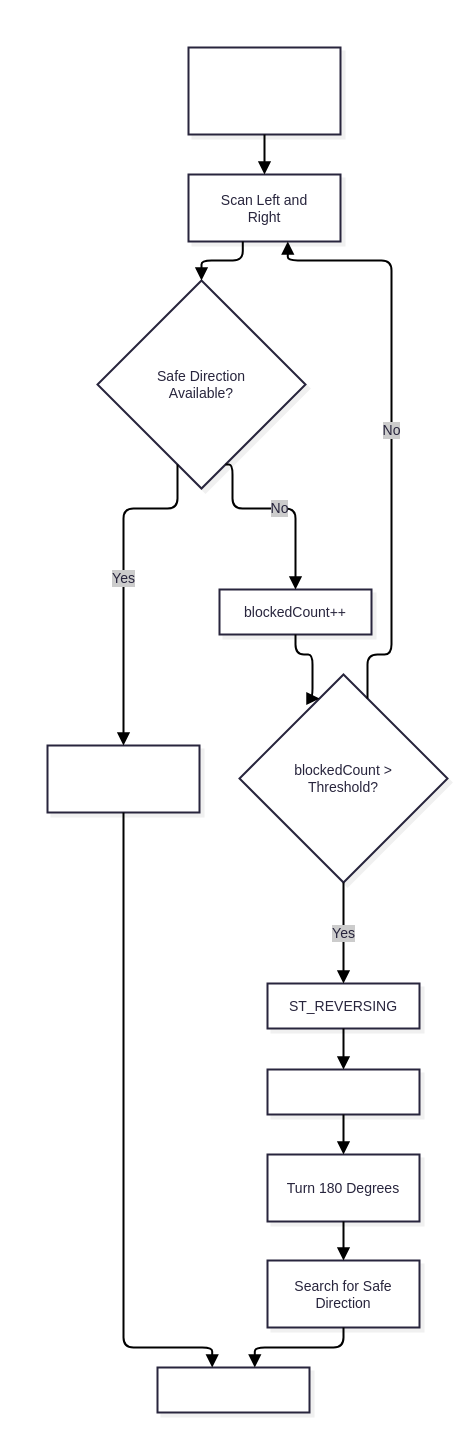
Some shapes in this 469 by 1434 pixel diagram are drawn without their labels. Each missing label, with the centre of its shape:
"Move Backward" belongs at point (345, 1093).
"Robot Encounters Obstacle" belongs at point (266, 92).
"ST_FORWARD" belongs at point (235, 1391).
"Turn to Safe Direction" belongs at point (125, 780).
